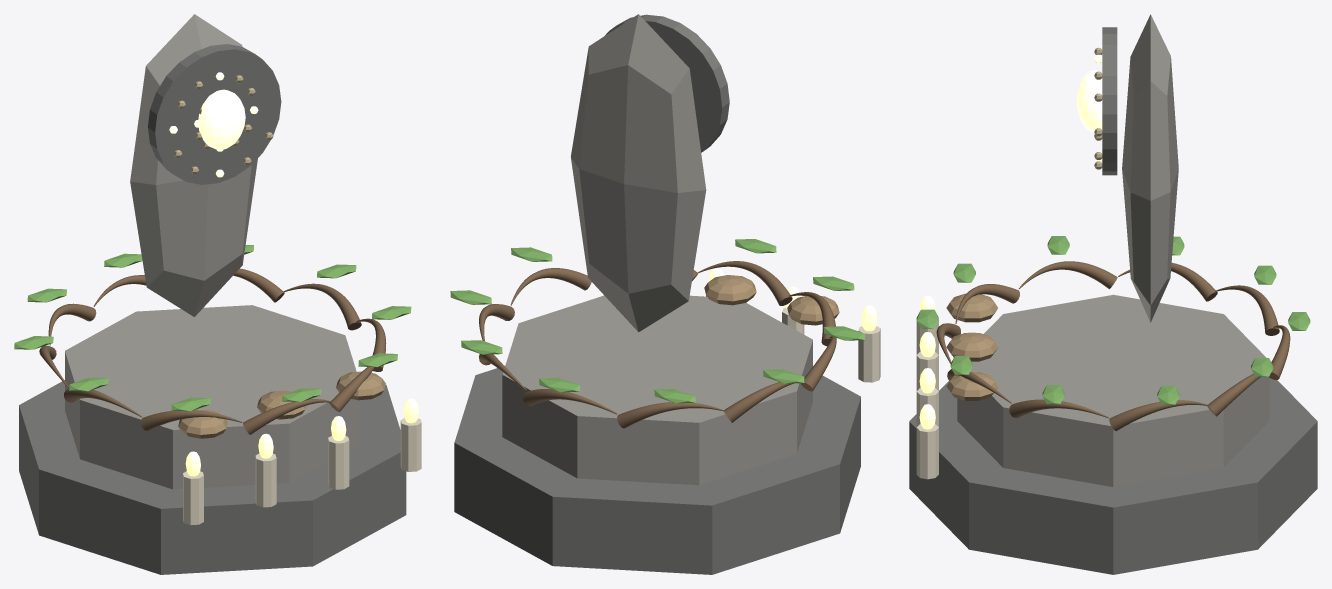
File: altar.glb
The picture shows the model from 3 angles, left to right: view 1: azimuth 30°, elevation 25°; view 2: azimuth 150°, elevation 25°; view 3: azimuth 270°, elevation 25°; orthographic projection. The views are drawn at different scales.
Parts seen in each view (by area): view 1: altar; view 2: altar; view 3: altar.
Boxes of the visible parts, x1,y1,x2,y2 form: altar: (14,14,421,574); altar: (450,14,880,574); altar: (909,14,1317,574).
Size of the model in its own units: 1.1 by 1.41 by 1.1.
